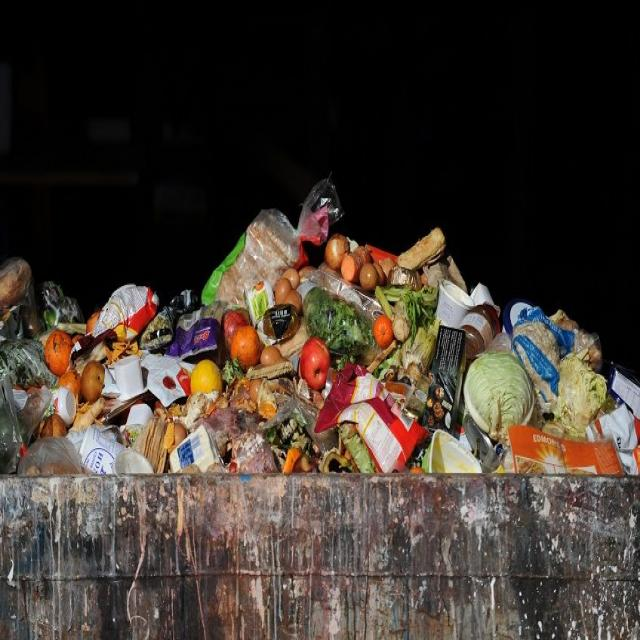food_waste: (19, 223, 595, 458)
